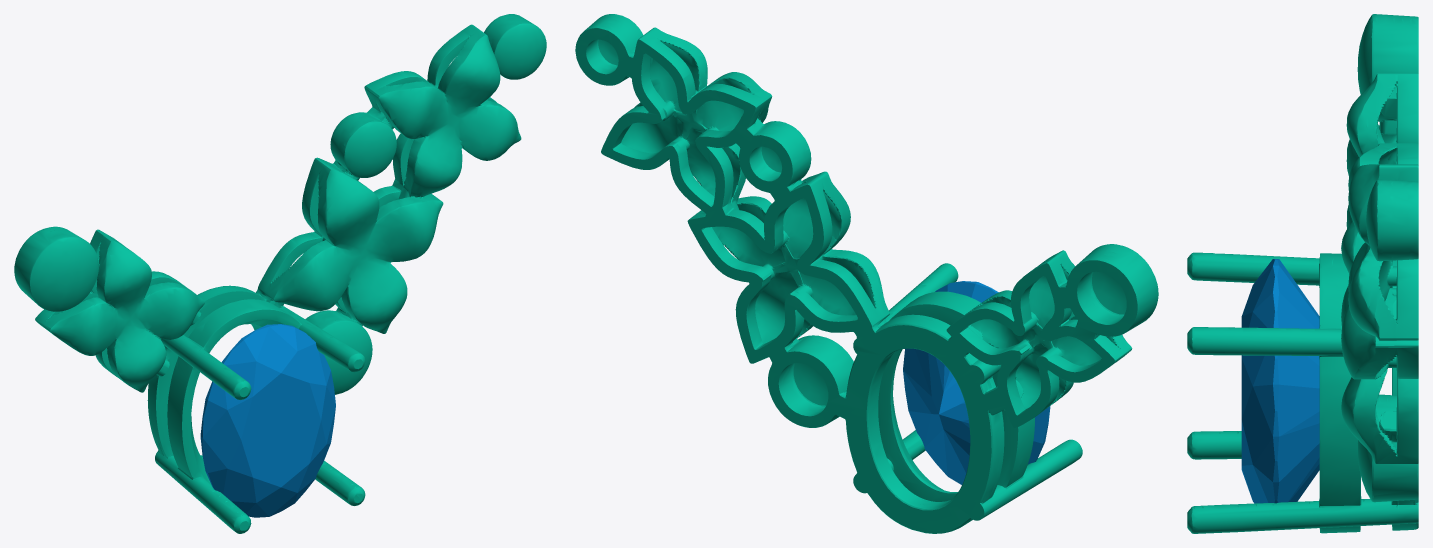
The picture shows the model from 3 angles, left to right: view 1: azimuth 30°, elevation 25°; view 2: azimuth 150°, elevation 25°; view 3: azimuth 270°, elevation 25°; orthographic projection. The views are drawn at different scales.
Parts seen in each view (by area): view 1: 968 jay(front).3dm, Diamond_Oval; view 2: 968 jay(front).3dm, Diamond_Oval; view 3: 968 jay(front).3dm, Diamond_Oval.
Part boxes in pixels (box(x1,y1,x2,y2)): 968 jay(front).3dm: box(14, 14, 546, 533); Diamond_Oval: box(200, 324, 335, 517); 968 jay(front).3dm: box(575, 14, 1158, 533); Diamond_Oval: box(903, 281, 1050, 484); 968 jay(front).3dm: box(1187, 14, 1418, 533); Diamond_Oval: box(1241, 259, 1319, 503).
Size of the model in its own units: 3.15 by 2.29 by 0.9079.
